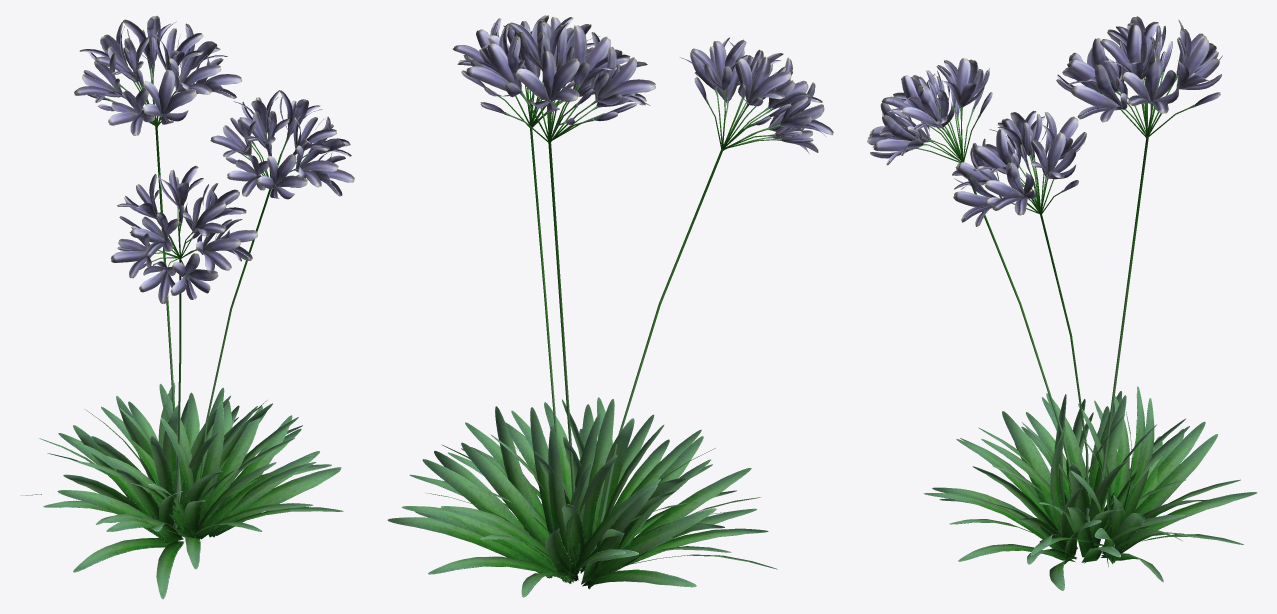
File: agapansasu_nocolor.fbx
3 renders of one model, left to right at view 1: azimuth 30°, elevation 25°; view 2: azimuth 150°, elevation 25°; view 3: azimuth 270°, elevation 25°, orthographic. The views are drawn at different scales.
Visible parts, largest first — view 1: 円柱.001, 円柱.002, 円柱.003, 901.031, 901.034, 901.056, 901.071, 901.055, 901.035, 901.040, 901.054, 901.070 (+19 smaller); view 2: 円柱.001, 円柱.002, 円柱.003, 901.022, 901.050, 901.014, 901.065, 901.064, 901.021, 901.052, 901.023, 901.020 (+21 smaller); view 3: 円柱.001, 円柱.003, 円柱.002, 901.016, 901.029, 901.015, 901.002, 901.027, 901.049, 901.025, 901.028, 901.031 (+13 smaller).
Boxes of the visible parts, left/top/right/bottom form: 円柱.001: left=74, top=15, right=242, bottom=502; 円柱.002: left=111, top=166, right=257, bottom=527; 円柱.003: left=200, top=90, right=354, bottom=478; 901.031: left=199, top=401, right=224, bottom=530; 901.034: left=199, top=406, right=262, bottom=538; 901.056: left=57, top=490, right=176, bottom=542; 901.071: left=208, top=467, right=341, bottom=537; 901.055: left=73, top=537, right=172, bottom=572; 901.035: left=196, top=454, right=313, bottom=538; 901.040: left=98, top=454, right=189, bottom=535; 901.054: left=156, top=541, right=183, bottom=599; 901.070: left=212, top=415, right=292, bottom=537; 円柱.001: left=457, top=17, right=655, bottom=569; 円柱.002: left=594, top=37, right=833, bottom=550; 円柱.003: left=453, top=15, right=620, bottom=445; 901.022: left=461, top=442, right=579, bottom=582; 901.050: left=588, top=508, right=716, bottom=588; 901.014: left=548, top=425, right=578, bottom=580; 901.065: left=387, top=517, right=552, bottom=578; 901.064: left=422, top=459, right=549, bottom=578; 901.021: left=415, top=511, right=570, bottom=583; 901.052: left=614, top=468, right=751, bottom=571; 901.023: left=530, top=407, right=554, bottom=534; 901.020: left=428, top=556, right=575, bottom=581; 円柱.001: left=1056, top=16, right=1222, bottom=483; 円柱.003: left=952, top=111, right=1089, bottom=521; 円柱.002: left=867, top=58, right=1070, bottom=469; 901.016: left=1133, top=434, right=1217, bottom=515; 901.029: left=1002, top=411, right=1077, bottom=548; 901.015: left=1124, top=398, right=1154, bottom=520; 901.002: left=1090, top=395, right=1126, bottom=511; 901.027: left=1139, top=492, right=1257, bottom=529; 901.049: left=1156, top=421, right=1205, bottom=485; 901.025: left=1104, top=396, right=1129, bottom=544; 901.028: left=956, top=439, right=1051, bottom=520; 901.031: left=1050, top=424, right=1066, bottom=535.
Bounding box in the file's own units: 61.68 × 101 × 68.12.
3 materials, 3 textured.
